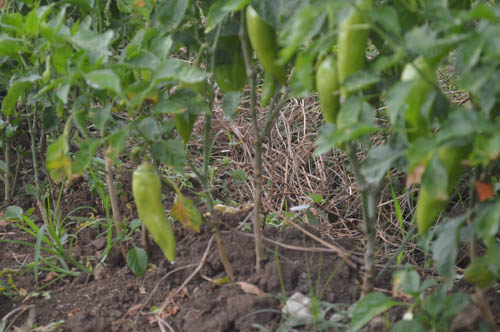ChiliPepper: (129, 170, 179, 258), (418, 146, 469, 230), (246, 9, 284, 78), (315, 61, 341, 136), (337, 15, 365, 82)
